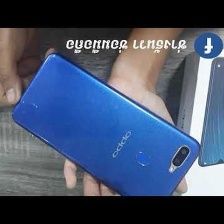book: (167, 42, 223, 206)
phone: (8, 47, 202, 207)
